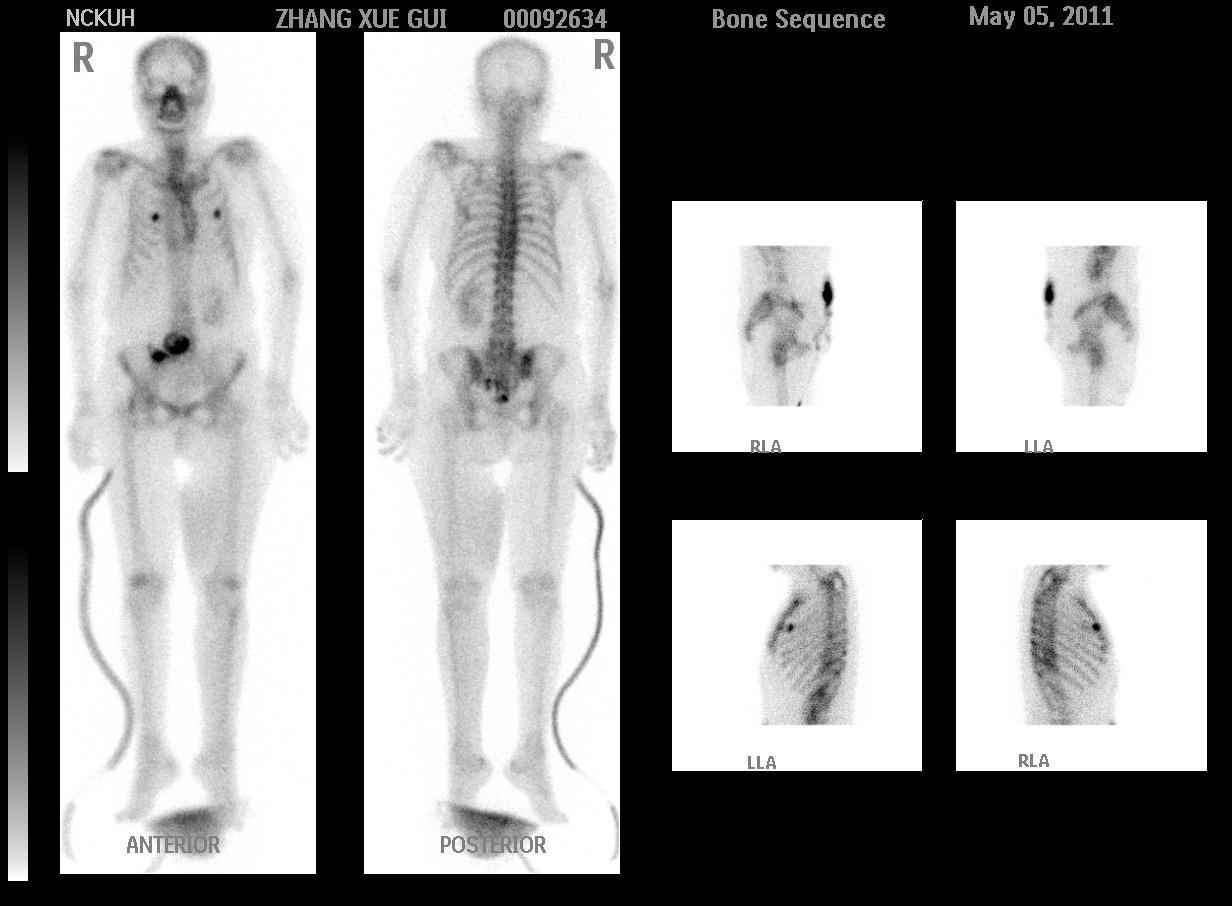person: (59, 32, 621, 875)
